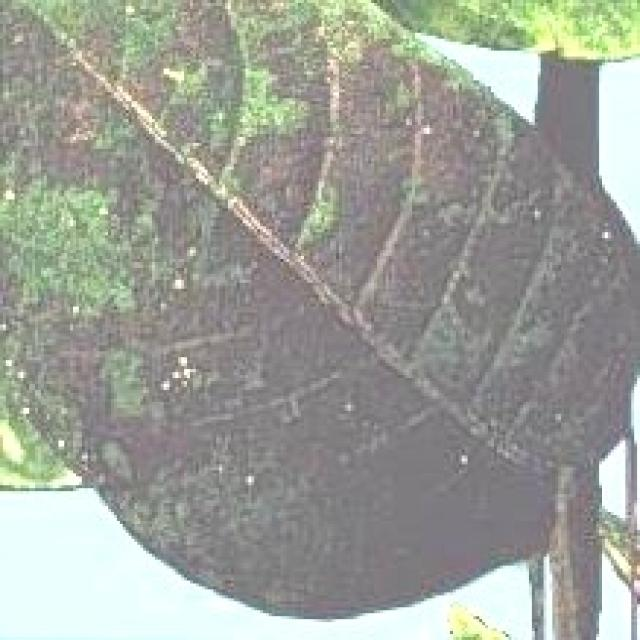Sooty Mold: (0, 0, 637, 625)
